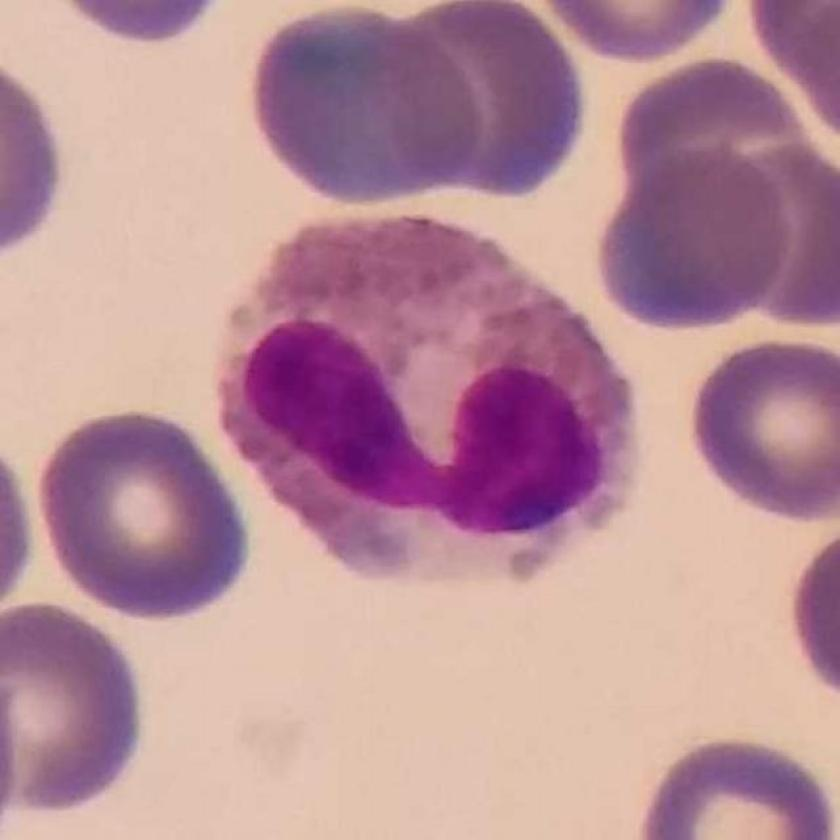eosinophil: (214, 207, 648, 609)
